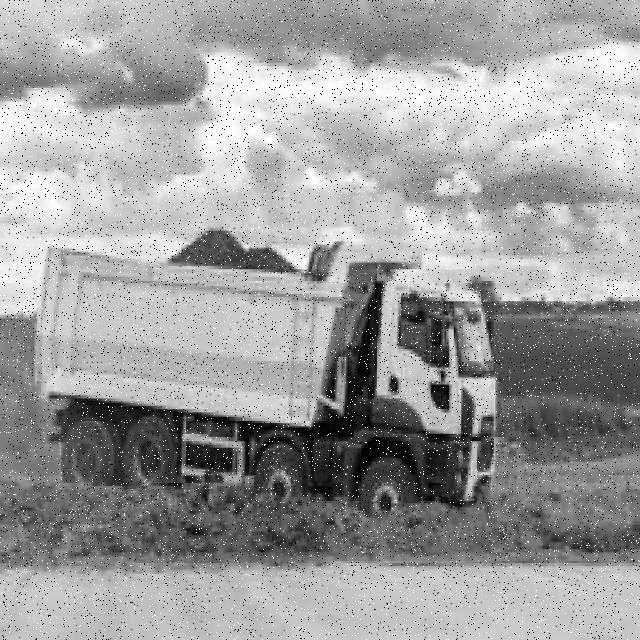Truck- Multi-Axle: (37, 241, 498, 515)
